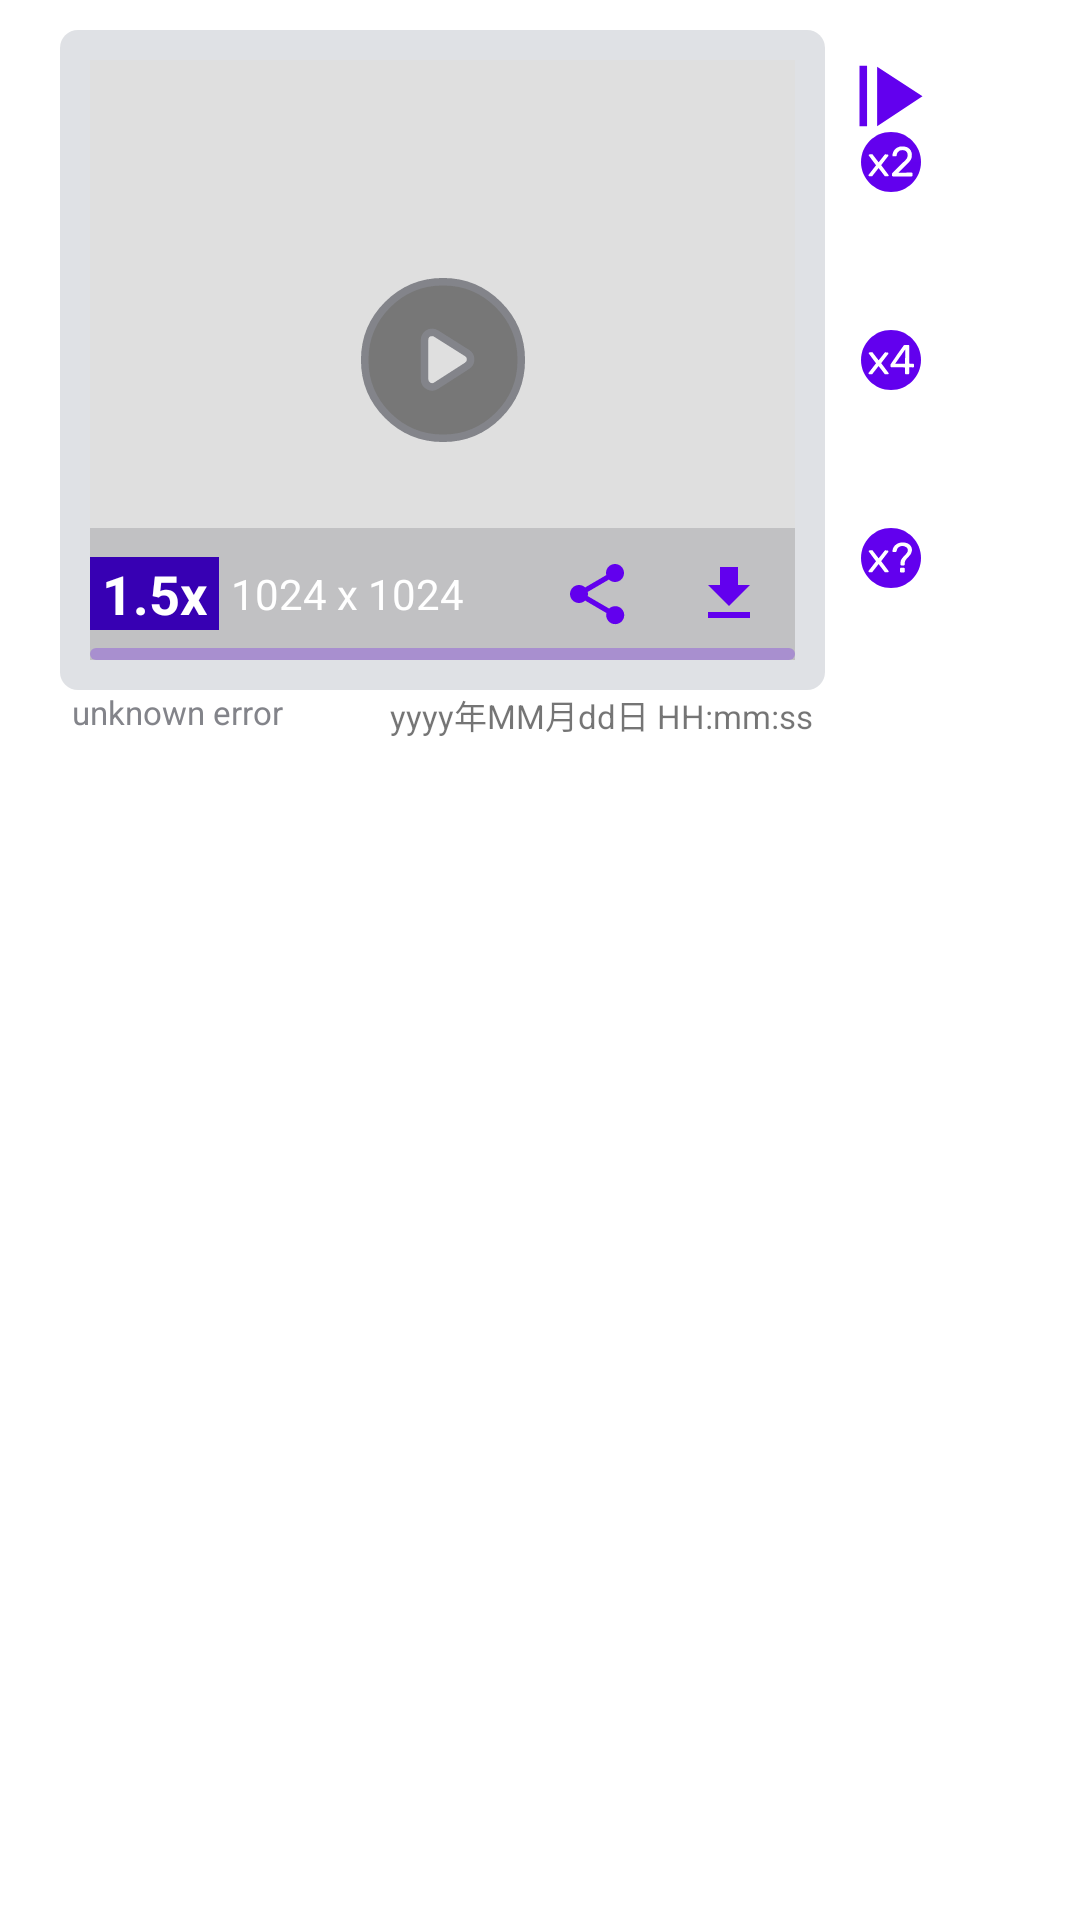

Where to tap for icons on this 1080×1920 app screen, as (x,y):
continue: (891,96)
play: (443,360)
